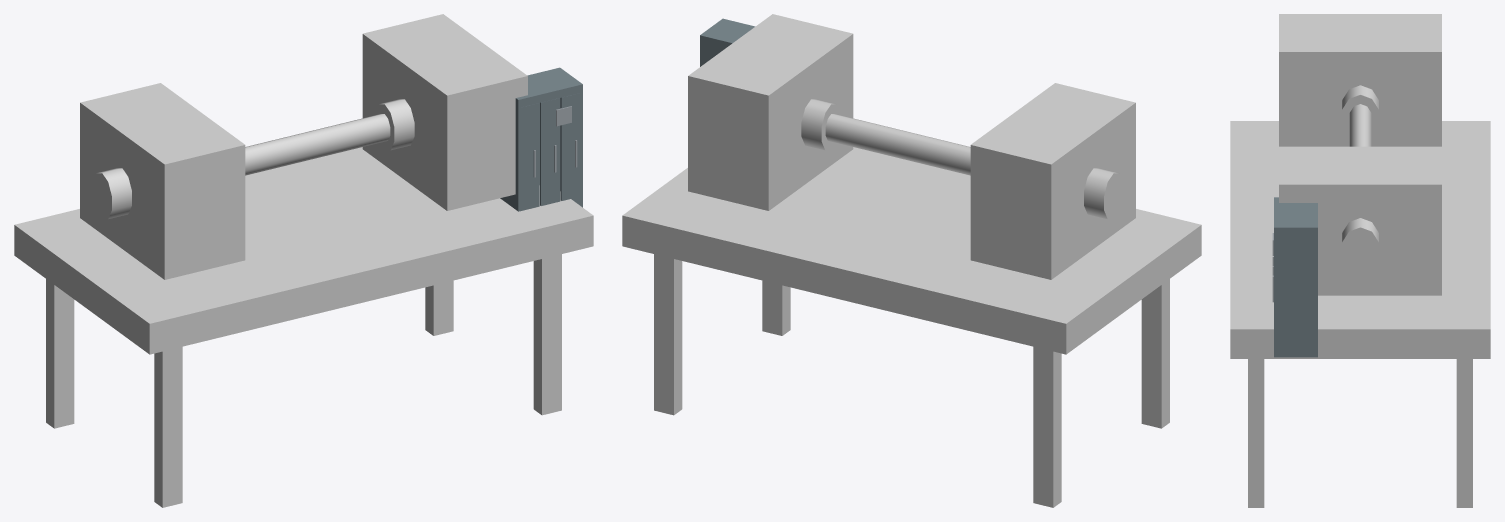
3 renders of one model, left to right at view 1: azimuth 30°, elevation 25°; view 2: azimuth 150°, elevation 25°; view 3: azimuth 270°, elevation 25°, orthographic. The views are drawn at different scales.
Parts seen in each view (by area): view 1: worktable_5, housing_7, housing_9, leg_2, leg_4, workpiece_11, leg_1, g0, g0.006, g0.003, forming_die_8, g0.007 (+3 smaller); view 2: worktable_5, housing_7, housing_9, leg_1, leg_3, workpiece_11, leg_2, forming_die_8, leg_4, forming_die_10, g0.007; view 3: worktable_5, housing_7, housing_9, g0.009, leg_3, leg_4, forming_die_10, g0.007, forming_die_8, workpiece_11, g0.008, g0.011.
Boxes of the visible parts, x1,y1,x2,y2 form: worktable_5: [14, 147, 593, 354]; housing_7: [80, 83, 245, 279]; housing_9: [362, 14, 527, 210]; leg_2: [154, 346, 182, 507]; leg_4: [533, 254, 561, 415]; workpiece_11: [245, 114, 390, 175]; leg_1: [46, 279, 74, 428]; g0: [540, 98, 560, 205]; g0.006: [520, 103, 539, 211]; g0.003: [560, 93, 580, 205]; forming_die_8: [92, 168, 131, 219]; g0.007: [516, 68, 582, 106]; worktable_5: [622, 147, 1201, 354]; housing_7: [970, 83, 1135, 279]; housing_9: [688, 14, 853, 210]; leg_1: [1033, 346, 1061, 507]; leg_3: [654, 254, 682, 415]; workpiece_11: [825, 114, 970, 175]; leg_2: [1141, 279, 1169, 428]; forming_die_8: [1084, 168, 1123, 219]; leg_4: [762, 280, 790, 335]; forming_die_10: [801, 99, 840, 150]; g0.007: [700, 18, 755, 48]; worktable_5: [1230, 121, 1490, 358]; housing_7: [1279, 14, 1441, 146]; housing_9: [1279, 146, 1441, 295]; g0.009: [1274, 228, 1315, 349]; leg_3: [1456, 359, 1472, 507]; leg_4: [1248, 359, 1264, 507]; forming_die_10: [1342, 218, 1378, 271]; g0.007: [1274, 197, 1315, 235]; forming_die_8: [1342, 85, 1378, 134]; workpiece_11: [1349, 104, 1371, 146]; g0.008: [1315, 203, 1317, 356]; g0.011: [1274, 349, 1317, 357].
Size of the model in its own units: 3.5 by 2.4 by 1.8.
